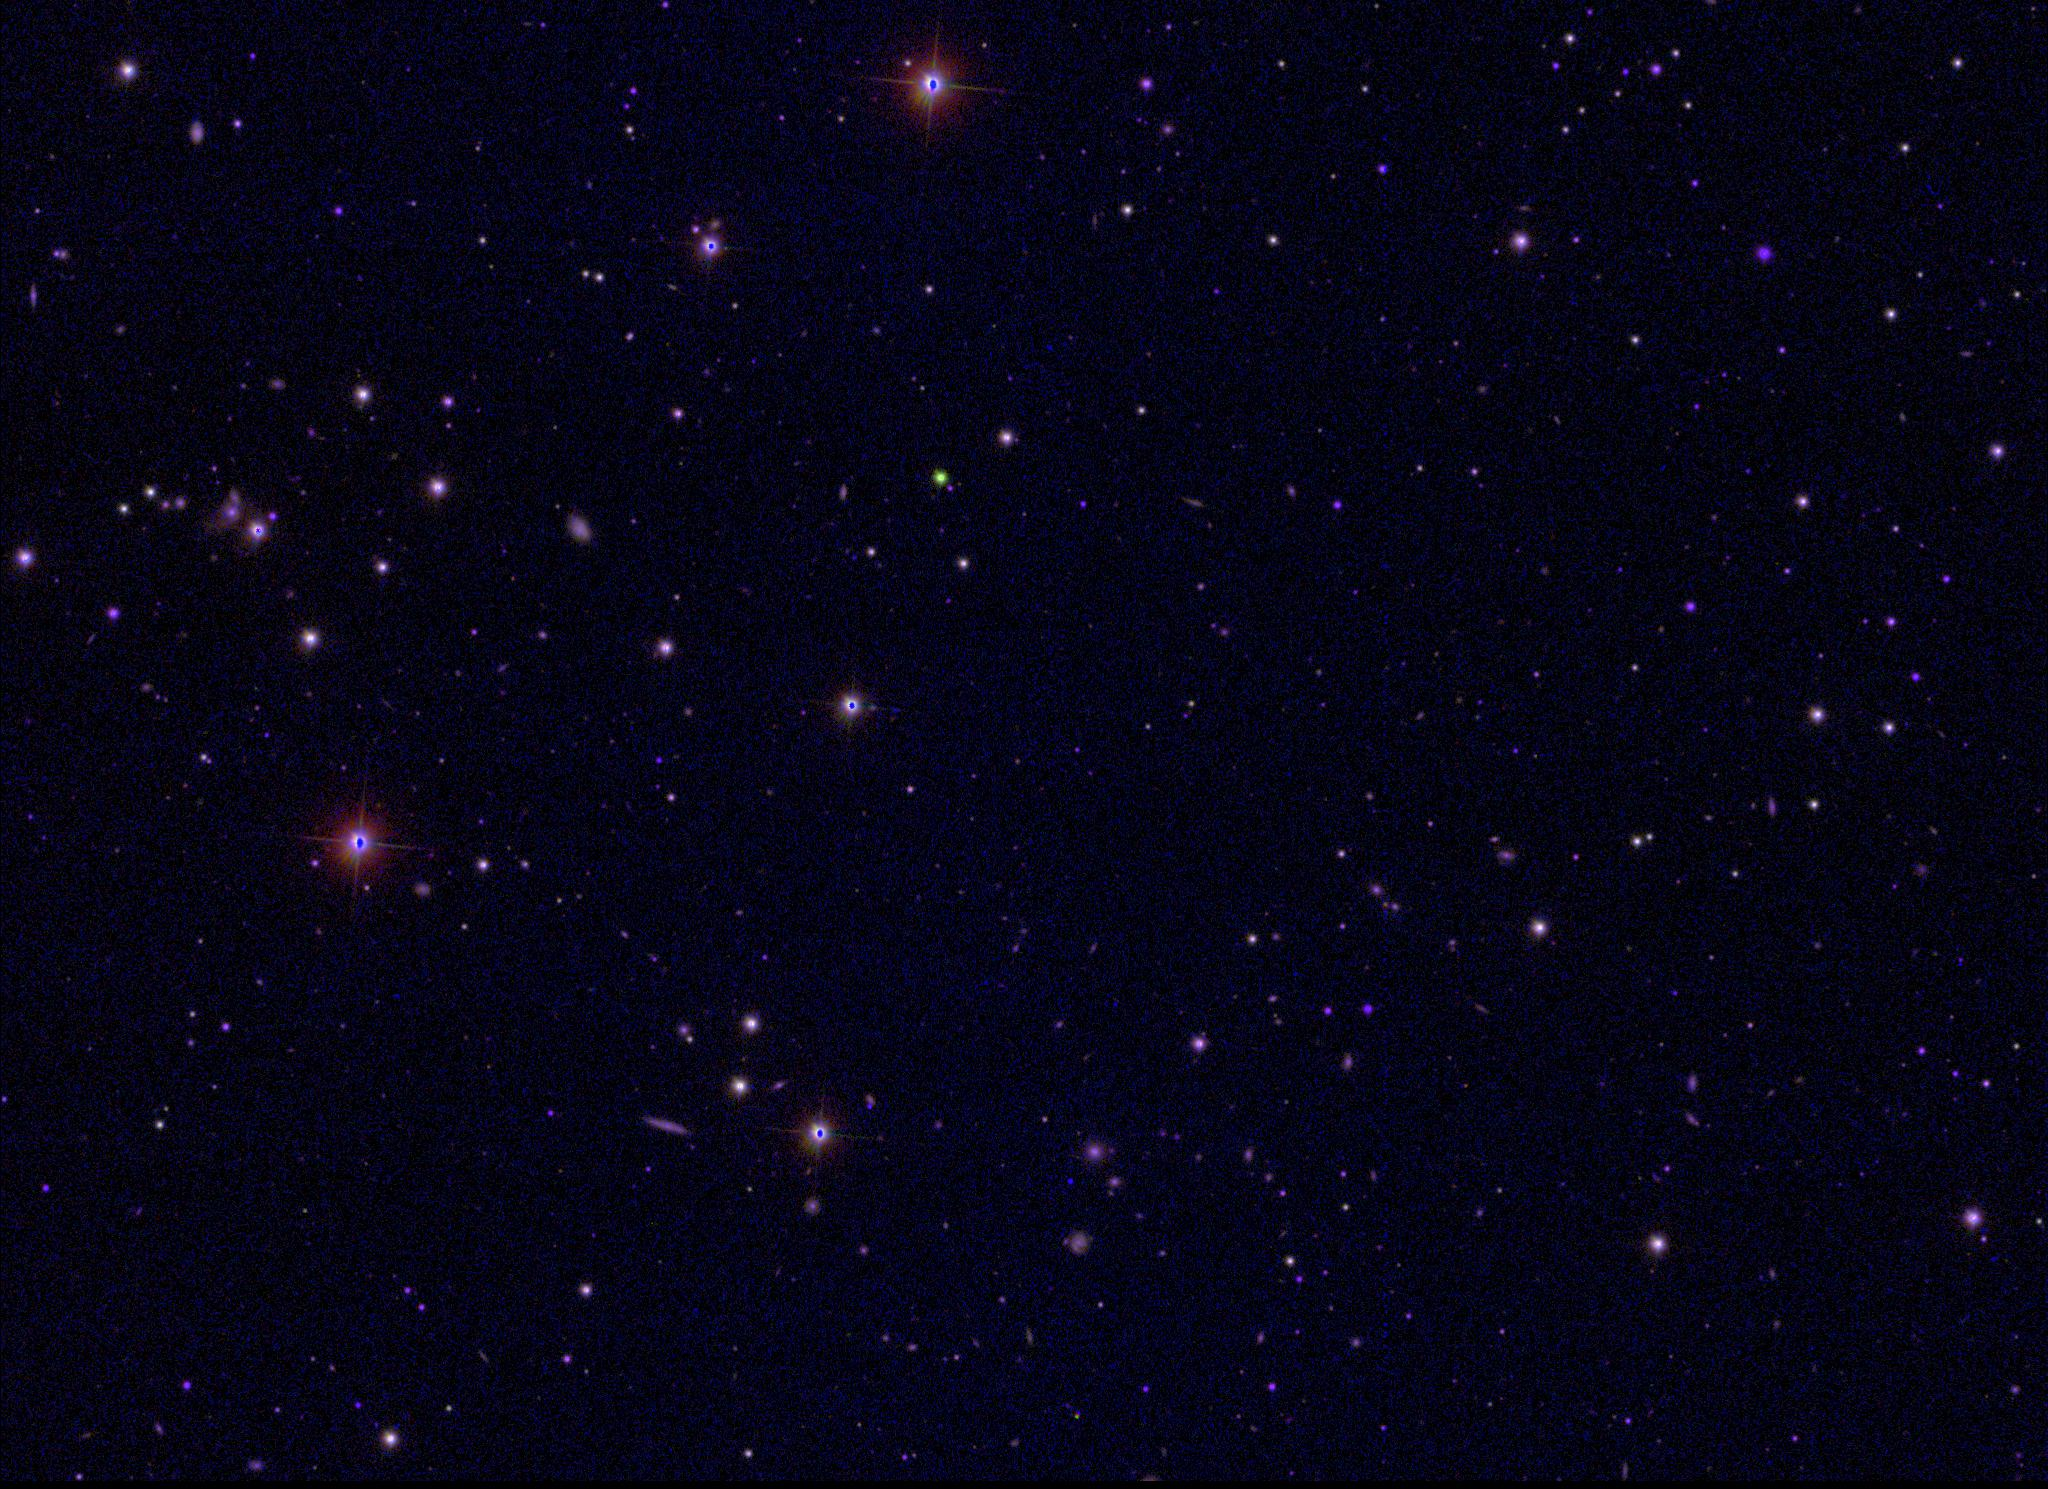L: (1064, 1174, 1076, 1188)
